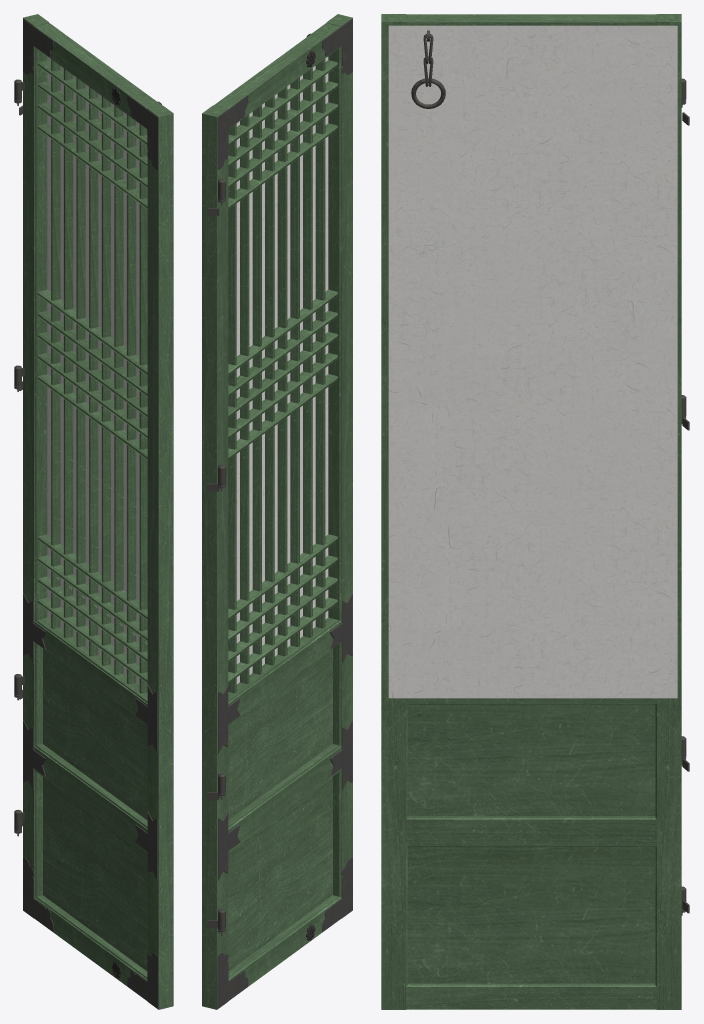
The model's file is SM_Door09I.fbx.
3 views of the same model, side by side, from view 1: azimuth 30°, elevation 25°; view 2: azimuth 150°, elevation 25°; view 3: azimuth 270°, elevation 25° (orthographic). The views are drawn at different scales.
Parts seen in each view (by area): view 1: SM_Door09I; view 2: SM_Door09I; view 3: SM_Door09I.
Part boxes in pixels (x1,y1,x2,y2): SM_Door09I: (14, 14, 173, 1009); SM_Door09I: (202, 14, 352, 1009); SM_Door09I: (381, 14, 689, 1009).
Bounding box in the file's own units: 12.05 × 88.53 × 313.
